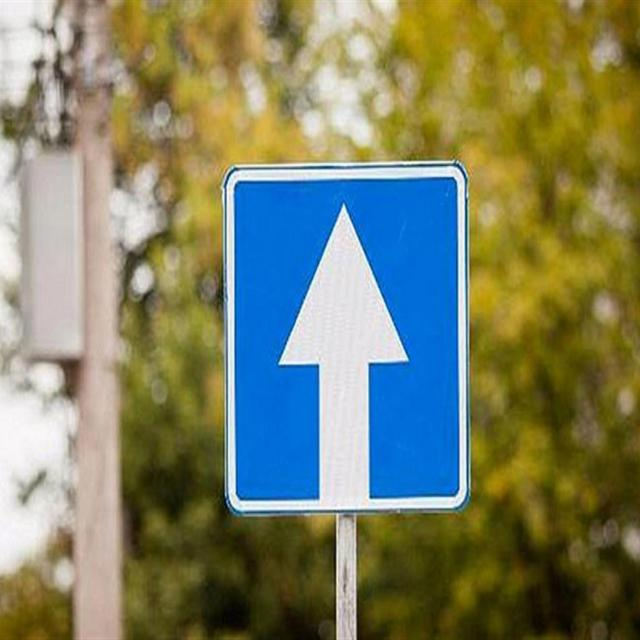Traffic sign: (224, 167, 470, 510)
